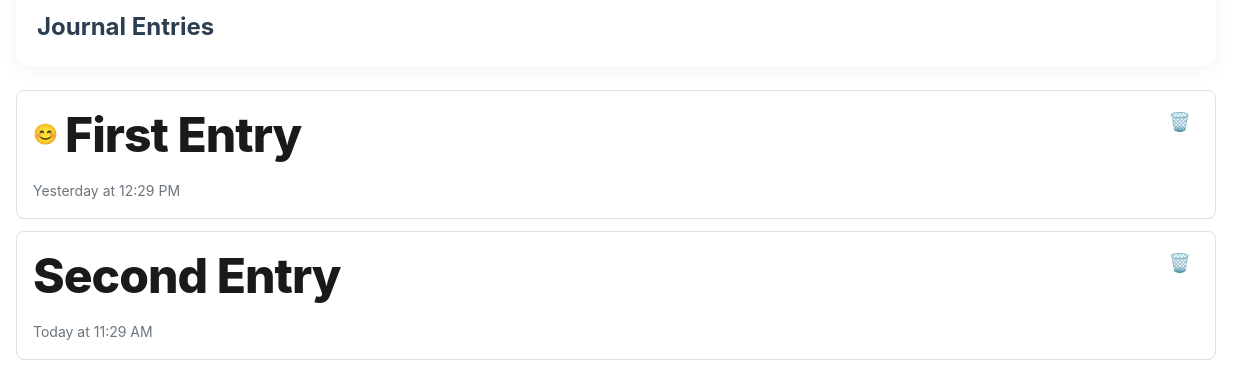
Test: EntryList › should show delete confirmation dialog when delete button is clicked
The image size is (1233, 377).
Click the button named "delete entry:" at point(1180, 122), box [1160, 107, 1199, 136]
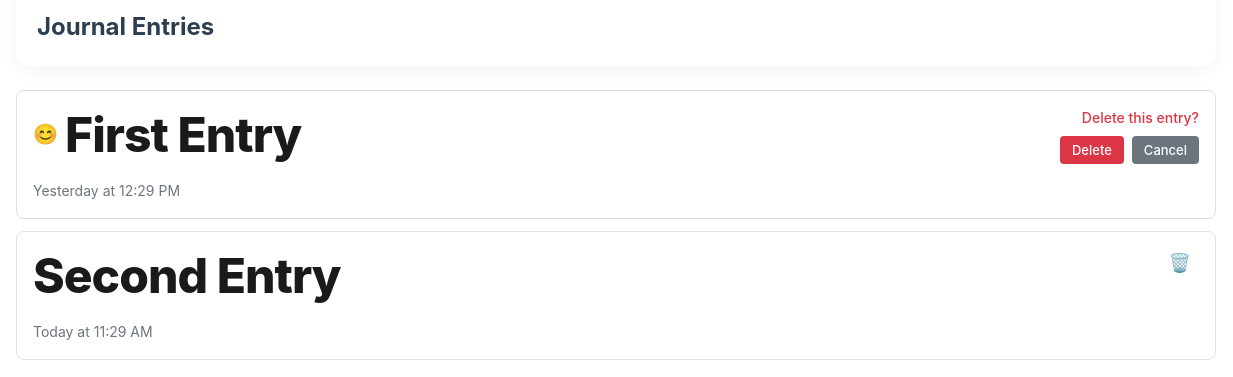
Expected: the text "Delete this entry?" is shown, [1082, 107, 1199, 128]
Expected: the button with aria-label "confirm delete" is shown, [1060, 136, 1124, 164]
Expected: the button with aria-label "cancel delete" is shown, [1132, 136, 1199, 164]
